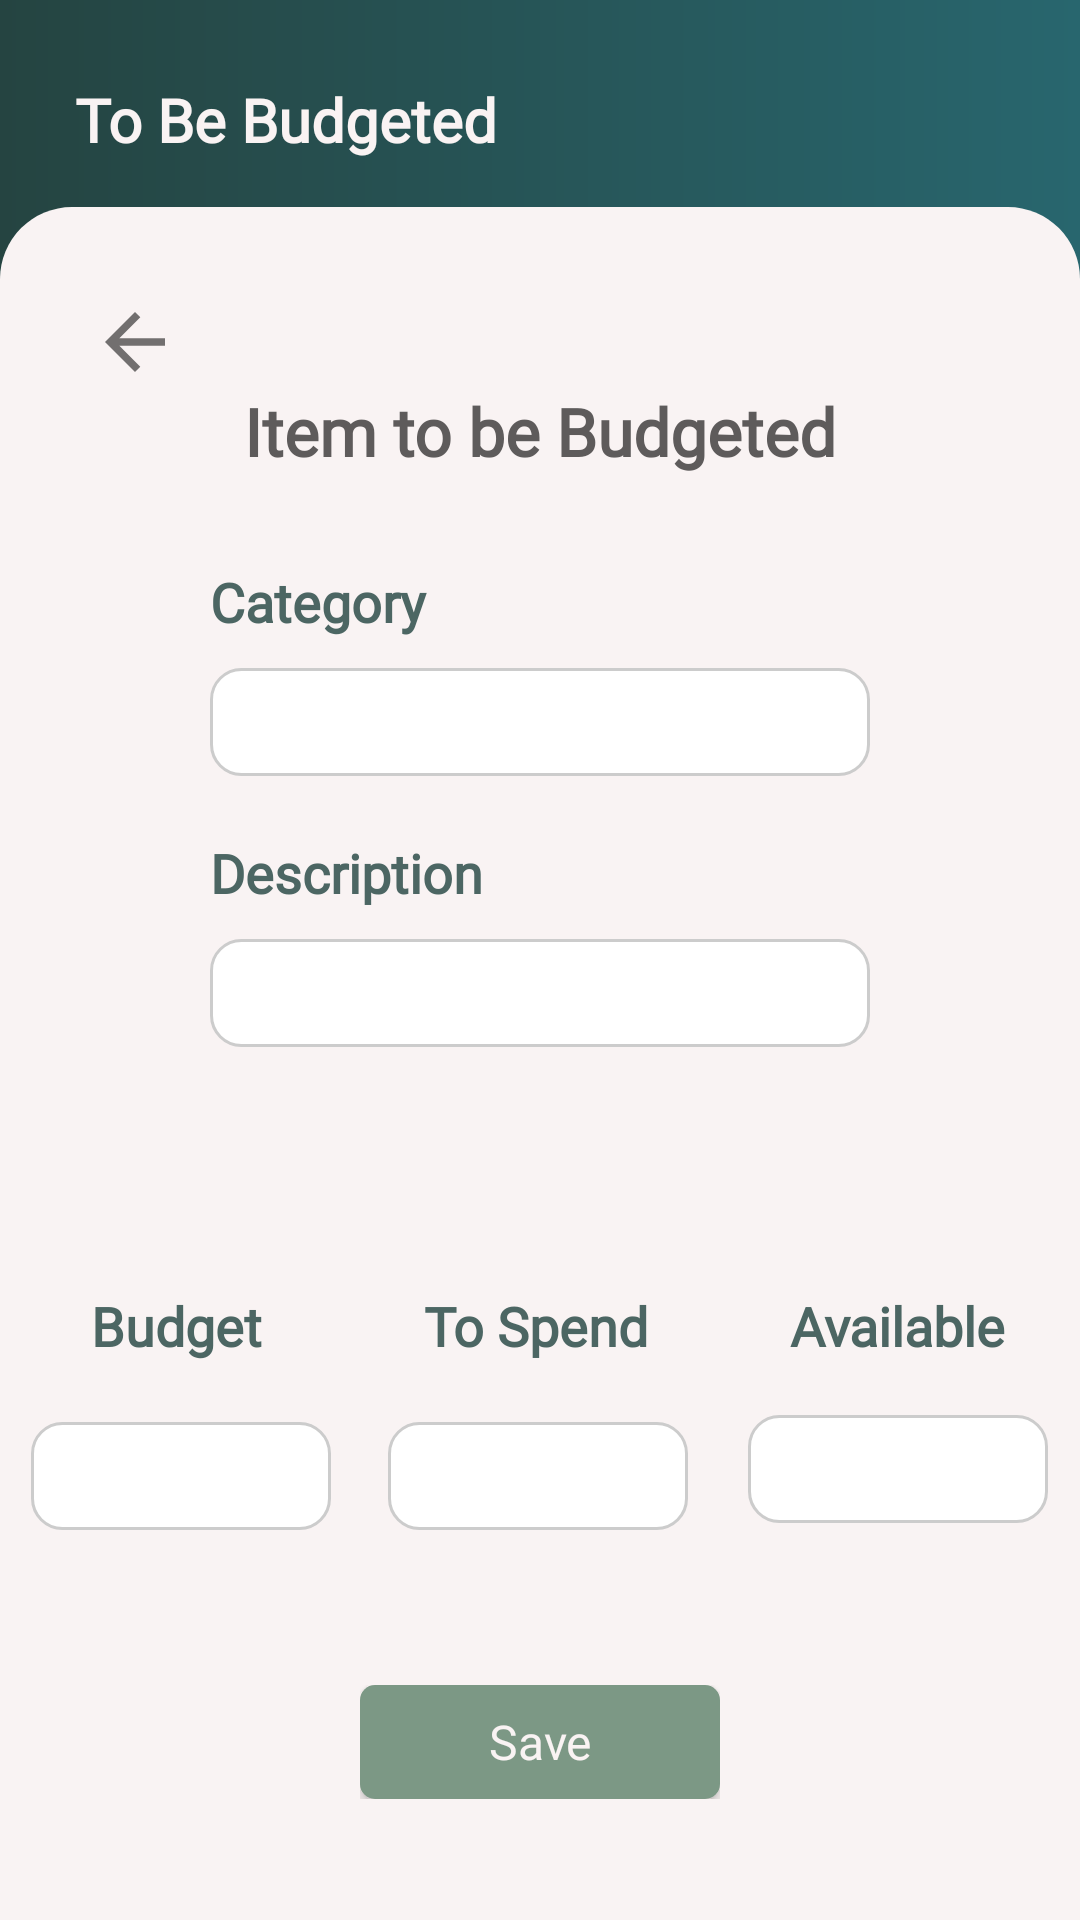

Where icons sit on this 1080px x 1920px app screen, as (x1, y1, x2, y2):
arrow back: (105, 312, 165, 372)
